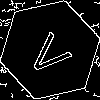V: (25, 25, 79, 80)
